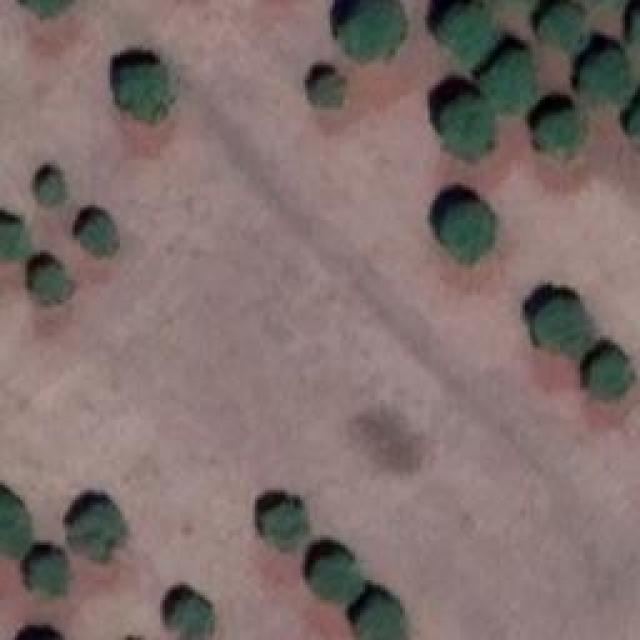Tree: (343, 0, 406, 58), (535, 297, 590, 355), (438, 5, 491, 65), (445, 98, 495, 158), (70, 505, 125, 558), (118, 65, 171, 120), (485, 52, 535, 110), (443, 202, 493, 260), (580, 53, 628, 106), (313, 555, 363, 600), (265, 502, 308, 550), (590, 352, 633, 400), (355, 597, 402, 640), (540, 5, 583, 48), (532, 110, 580, 148), (0, 495, 30, 555), (170, 600, 213, 640), (30, 555, 70, 595), (80, 215, 118, 255), (35, 265, 68, 298), (0, 222, 28, 260), (313, 75, 343, 105), (27, 0, 75, 18), (40, 175, 63, 205)
